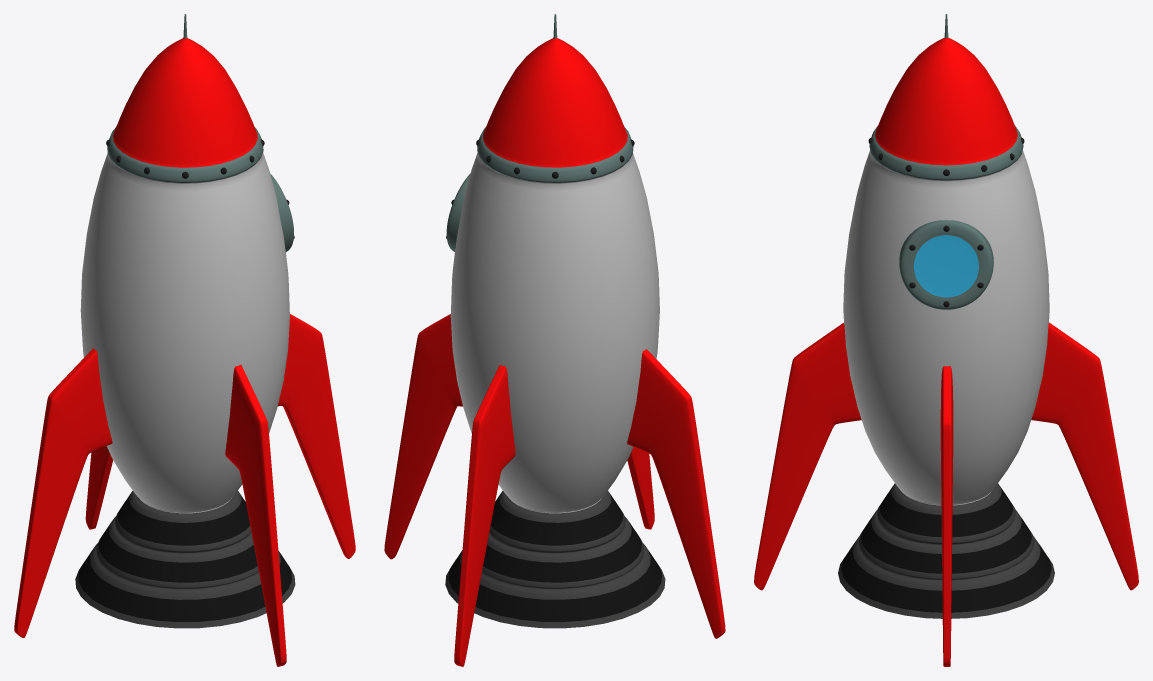
Rendered from rocket_0630.obj.
3 views of the same model, side by side, from view 1: azimuth 30°, elevation 25°; view 2: azimuth 150°, elevation 25°; view 3: azimuth 270°, elevation 25° (orthographic).
Parts seen in each view (by area): view 1: Sphere, Plane.002, Plane, Plane.003, Plane.001, Cylinder_Cylinder.001; view 2: Sphere, Plane.002, Plane, Plane.001, Plane.003, Cylinder_Cylinder.001; view 3: Sphere, Plane.003, Plane.001, Cylinder_Cylinder.001, Plane.
Boxes of the visible parts, x1,y1,x2,y2 form: Sphere: (75, 14, 295, 628); Plane.002: (14, 348, 112, 637); Plane: (278, 314, 355, 558); Plane.003: (225, 365, 286, 666); Plane.001: (85, 446, 113, 529); Cylinder_Cylinder.001: (270, 174, 293, 251); Sphere: (445, 14, 665, 628); Plane.002: (627, 349, 725, 638); Plane: (384, 314, 462, 559); Plane.001: (454, 365, 515, 666); Plane.003: (627, 447, 654, 529); Cylinder_Cylinder.001: (446, 173, 470, 251); Sphere: (838, 14, 1054, 618); Plane.003: (754, 322, 861, 590); Plane.001: (1031, 322, 1138, 590); Cylinder_Cylinder.001: (899, 220, 993, 309); Plane: (940, 366, 953, 666).
Bounding box in the file's own units: 6.86 × 11.31 × 6.86.
